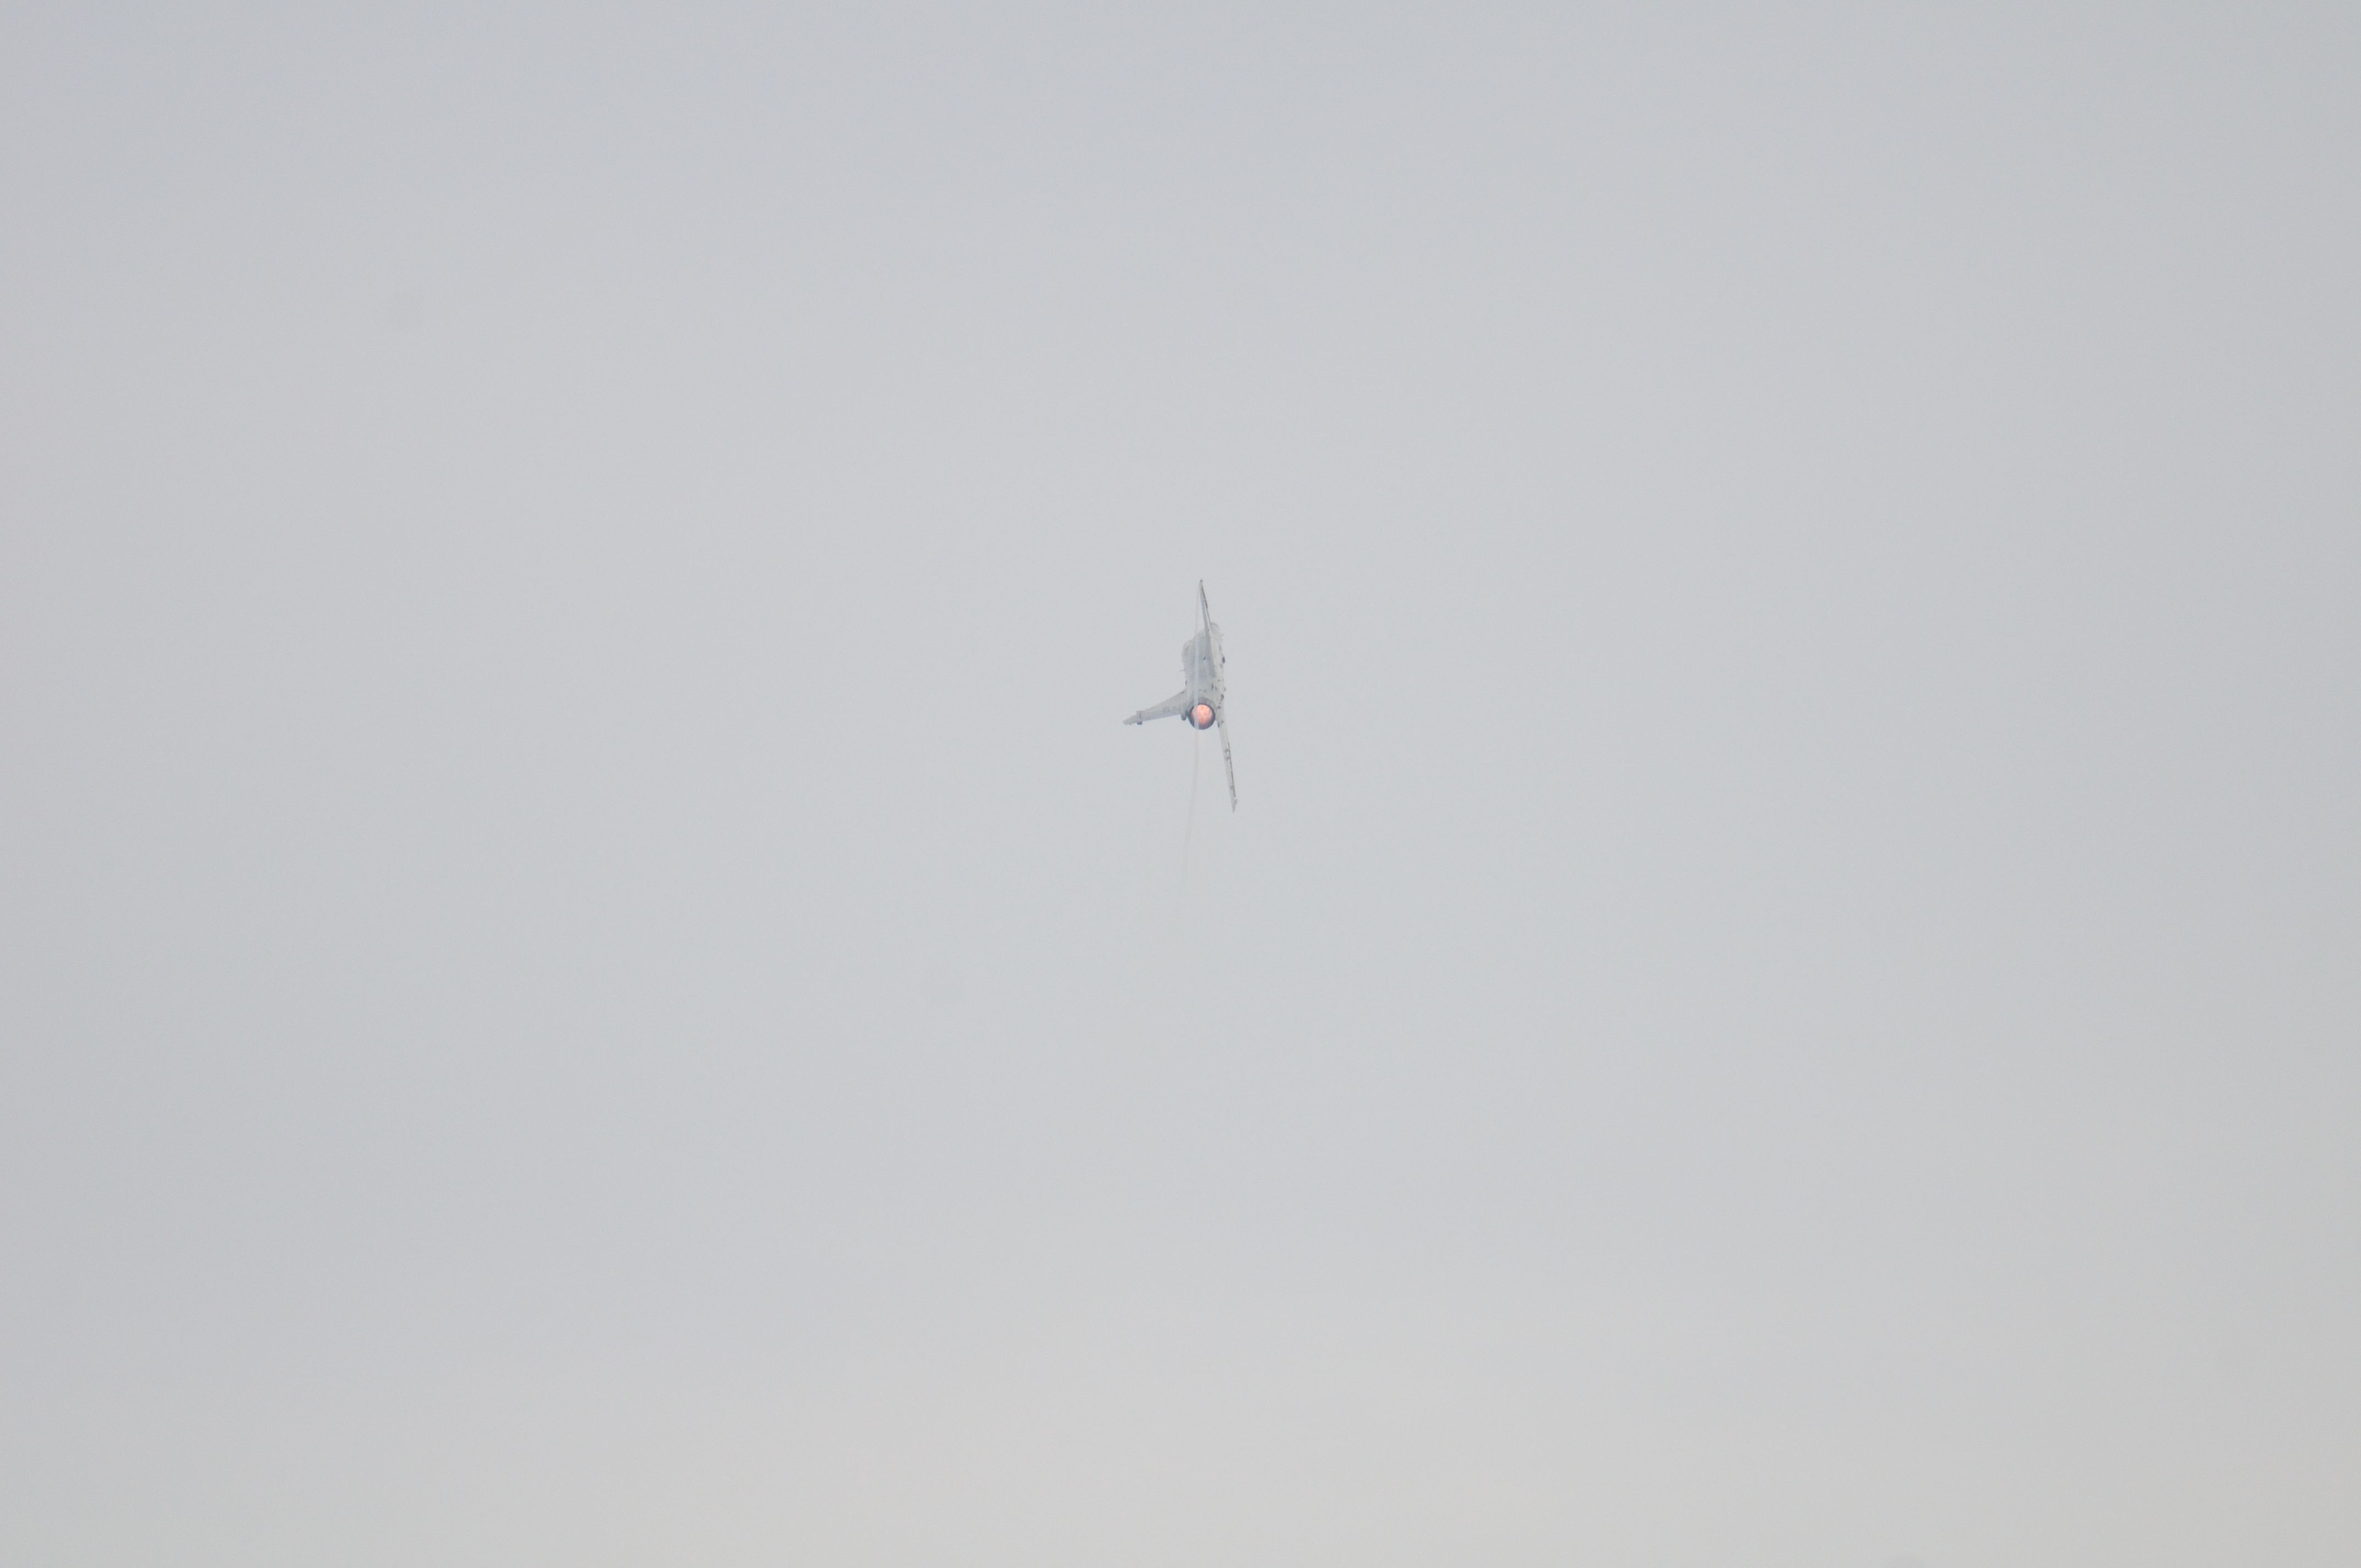Mirage2000: (1122, 577, 1237, 814)
